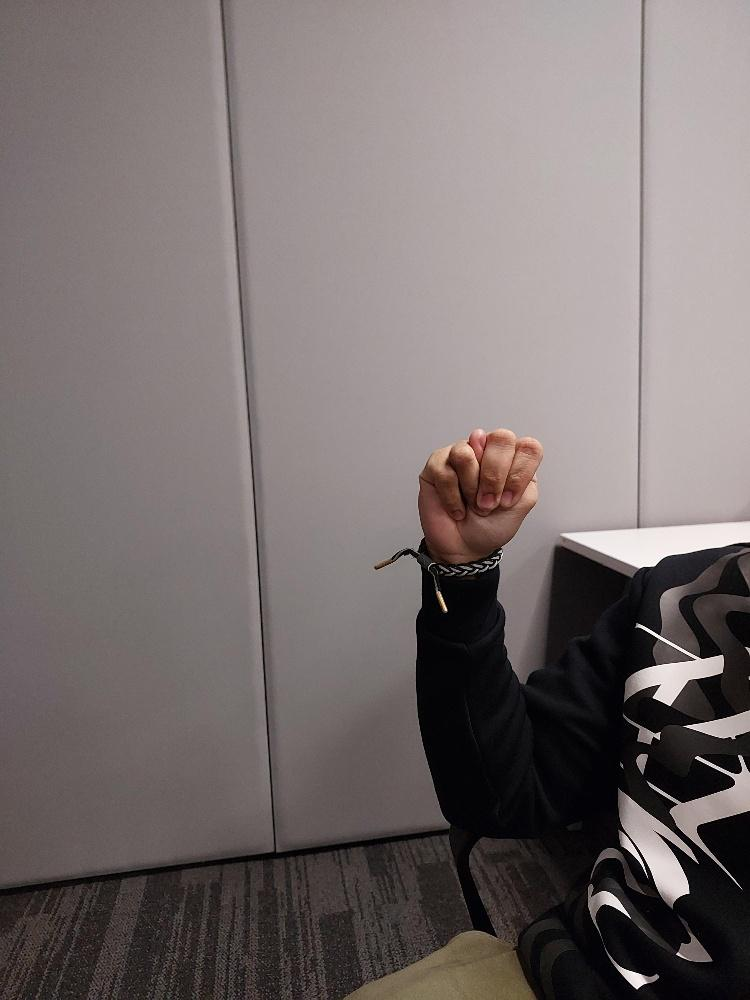n: (414, 425, 543, 575)
